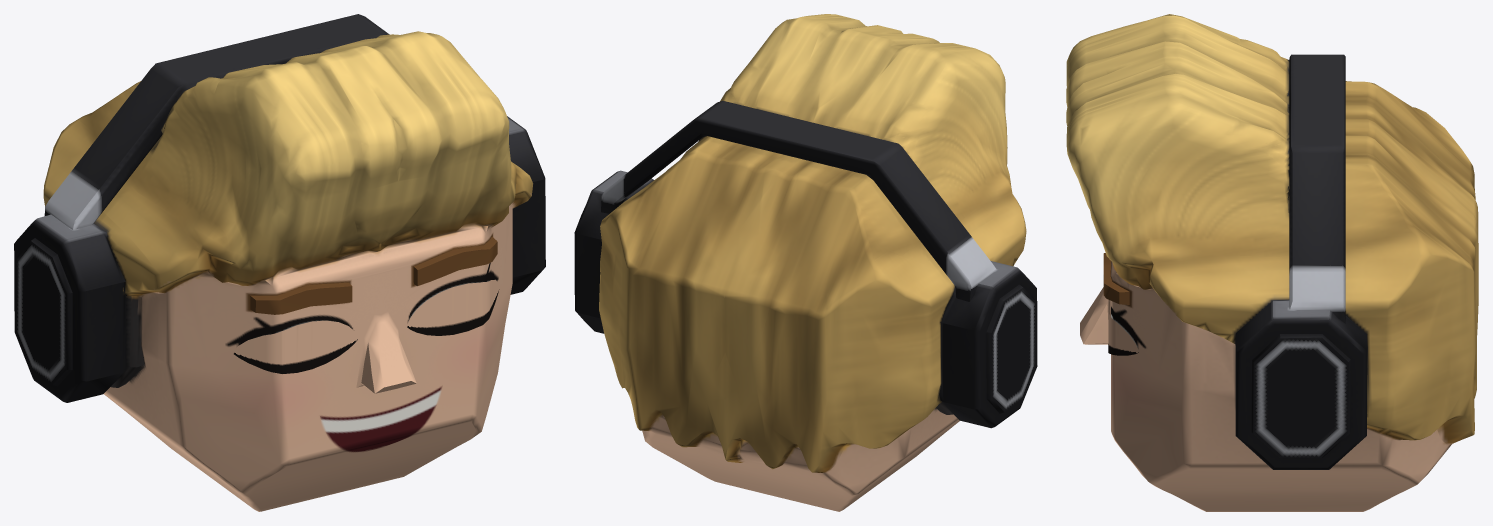
File: head_vee.fbx
The picture shows the model from 3 angles, left to right: view 1: azimuth 30°, elevation 25°; view 2: azimuth 150°, elevation 25°; view 3: azimuth 270°, elevation 25°; orthographic projection. The views are drawn at different scales.
Visible parts, largest first — view 1: vee, lid_R, lid_L; view 2: vee; view 3: vee, lid_L.
Boxes of the visible parts, <box> form: vee: <box>14,14,545,511</box>; lid_R: <box>233,320,357,373</box>; lid_L: <box>407,279,499,335</box>; vee: <box>574,14,1037,511</box>; vee: <box>1066,14,1478,511</box>; lid_L: <box>1108,312,1138,355</box>.
Bounding box in the file's own units: 0.6265 × 0.5721 × 0.4987.
1 material, 1 textured.
